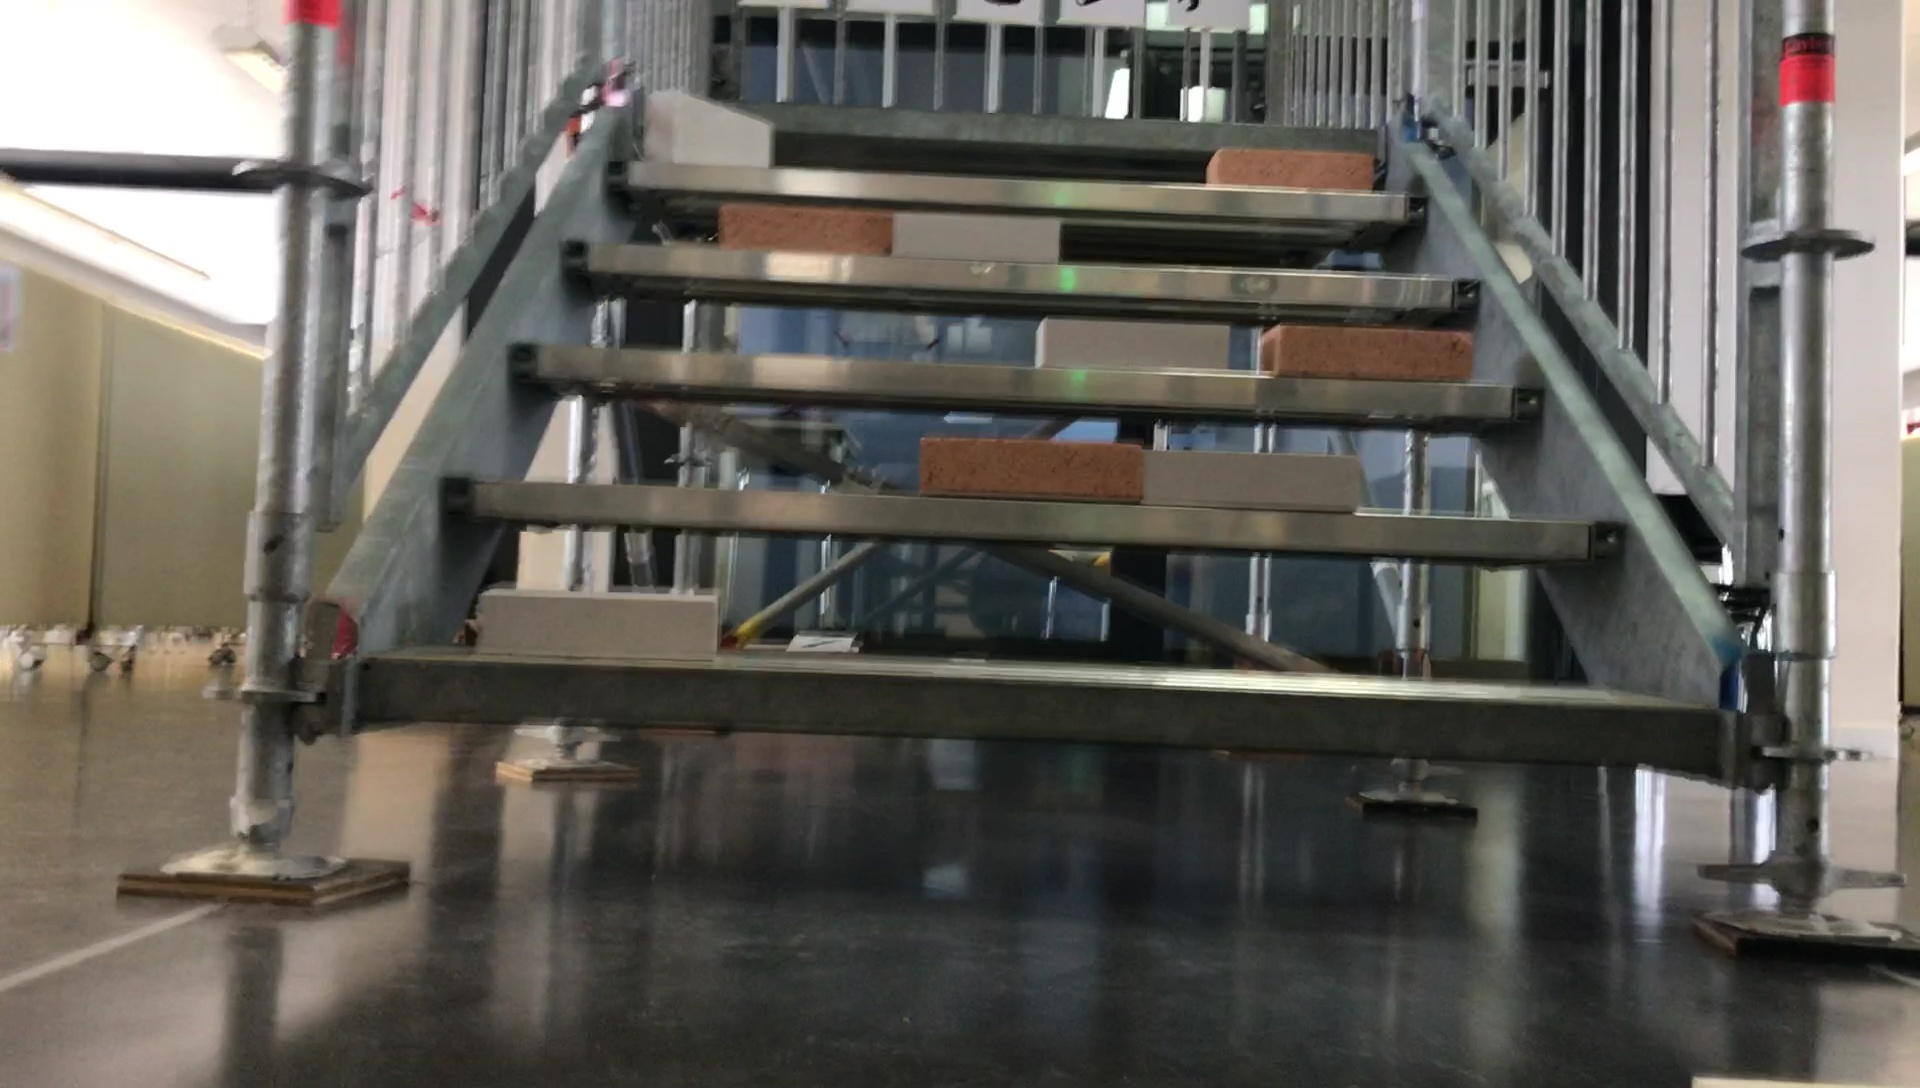brick: (480, 588, 717, 655), (919, 437, 1138, 502), (1149, 448, 1361, 510), (1261, 326, 1470, 378), (1036, 320, 1225, 373), (723, 200, 890, 256), (647, 92, 767, 167), (895, 212, 1058, 262), (1207, 146, 1367, 193)
edge: (365, 659, 1721, 778), (440, 480, 1629, 560), (510, 348, 1544, 419), (558, 243, 1481, 307), (603, 164, 1429, 220)
stairs: (117, 7, 1909, 973)
steps: (357, 80, 1738, 810)
